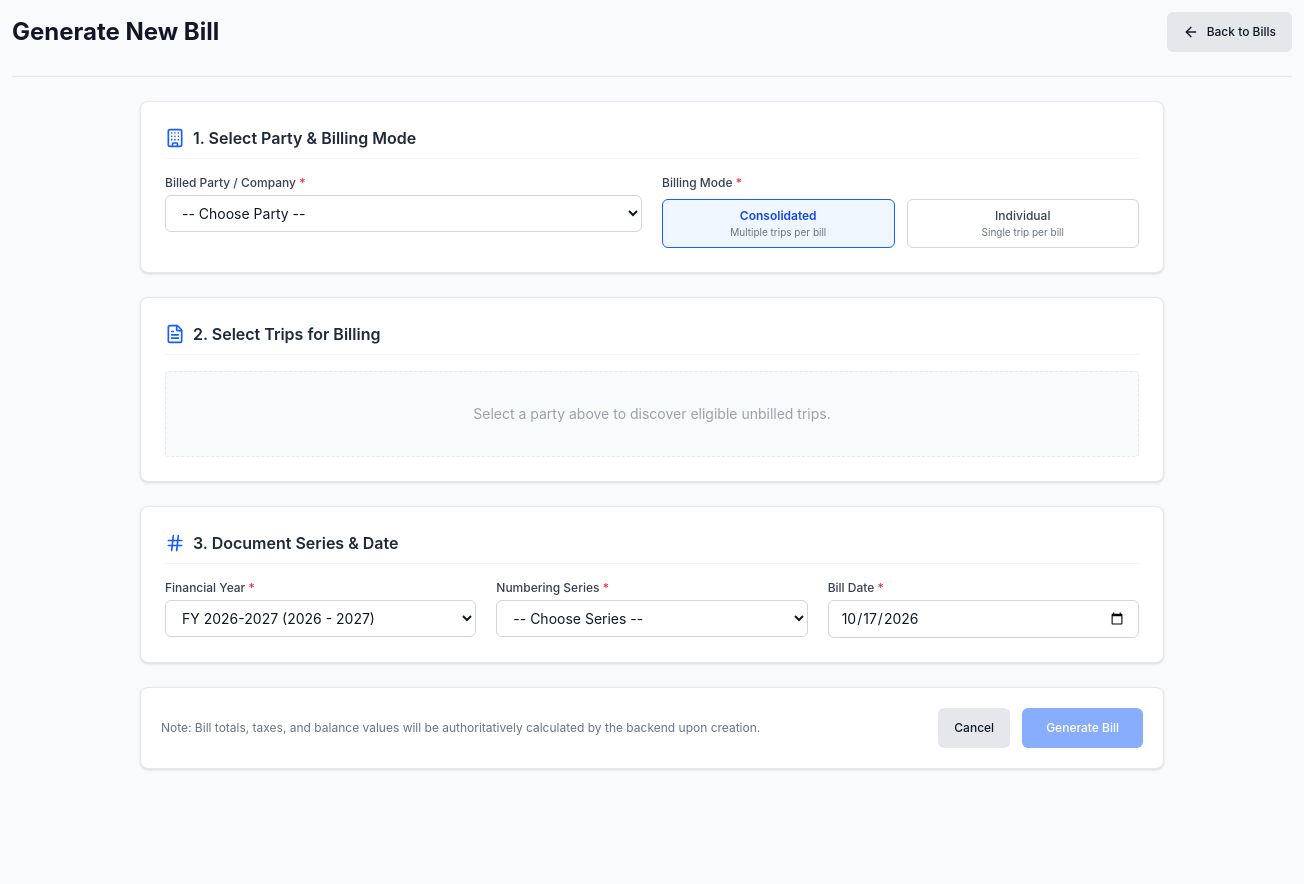
Test: CreateBill Page › displays error when bill generation fails
Select "UltraTech Cement Ltd (COMPANY)" in the dropdown labelled "Billed Party / Company *". click: (404, 214)
box: top-left (165, 195), bottom-right (642, 232)
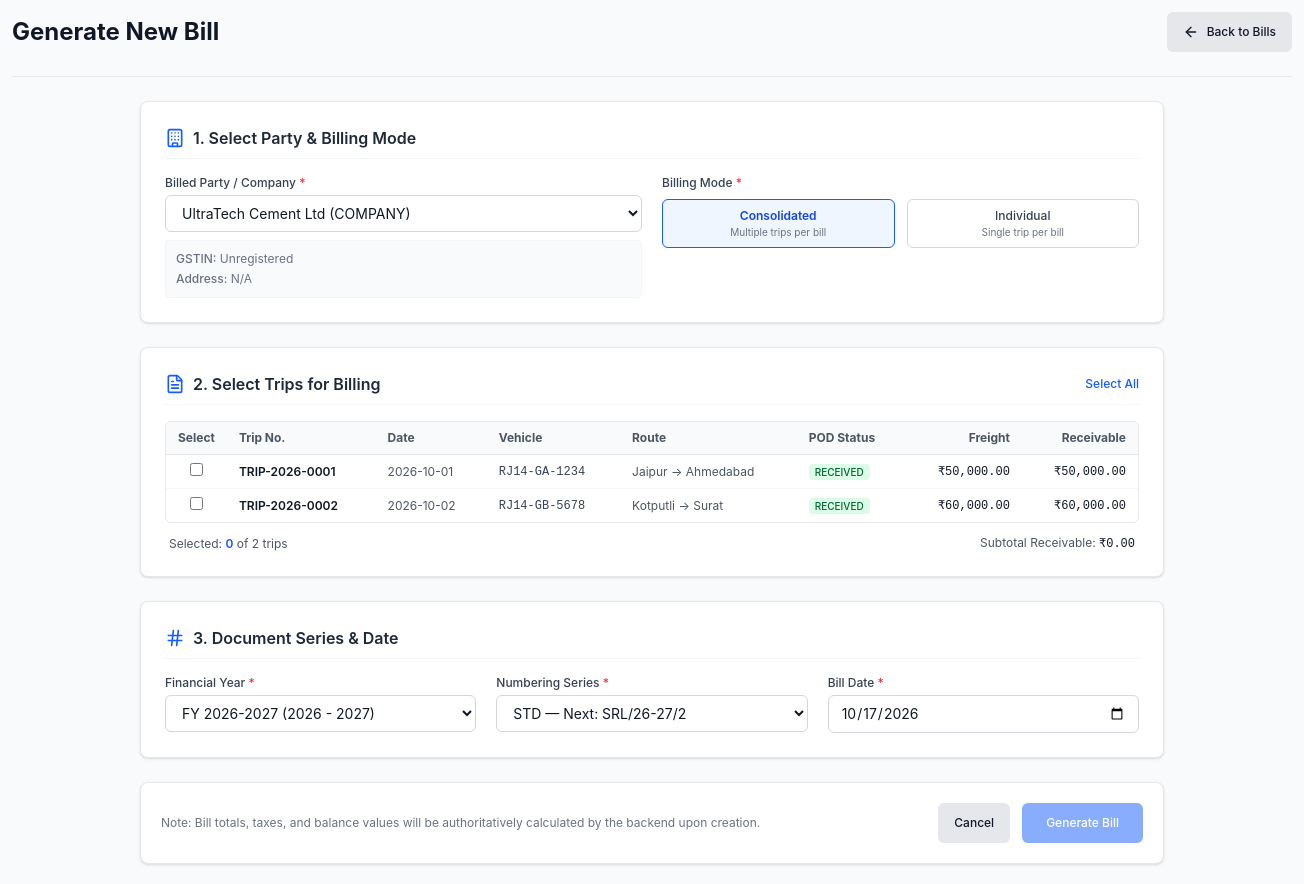
Now the text "TRIP-2026-0001" is shown, box top-left (227, 454), bottom-right (376, 488)
Click the button "Select All". click: click(1112, 384)
box: top-left (1085, 376), bottom-right (1139, 392)
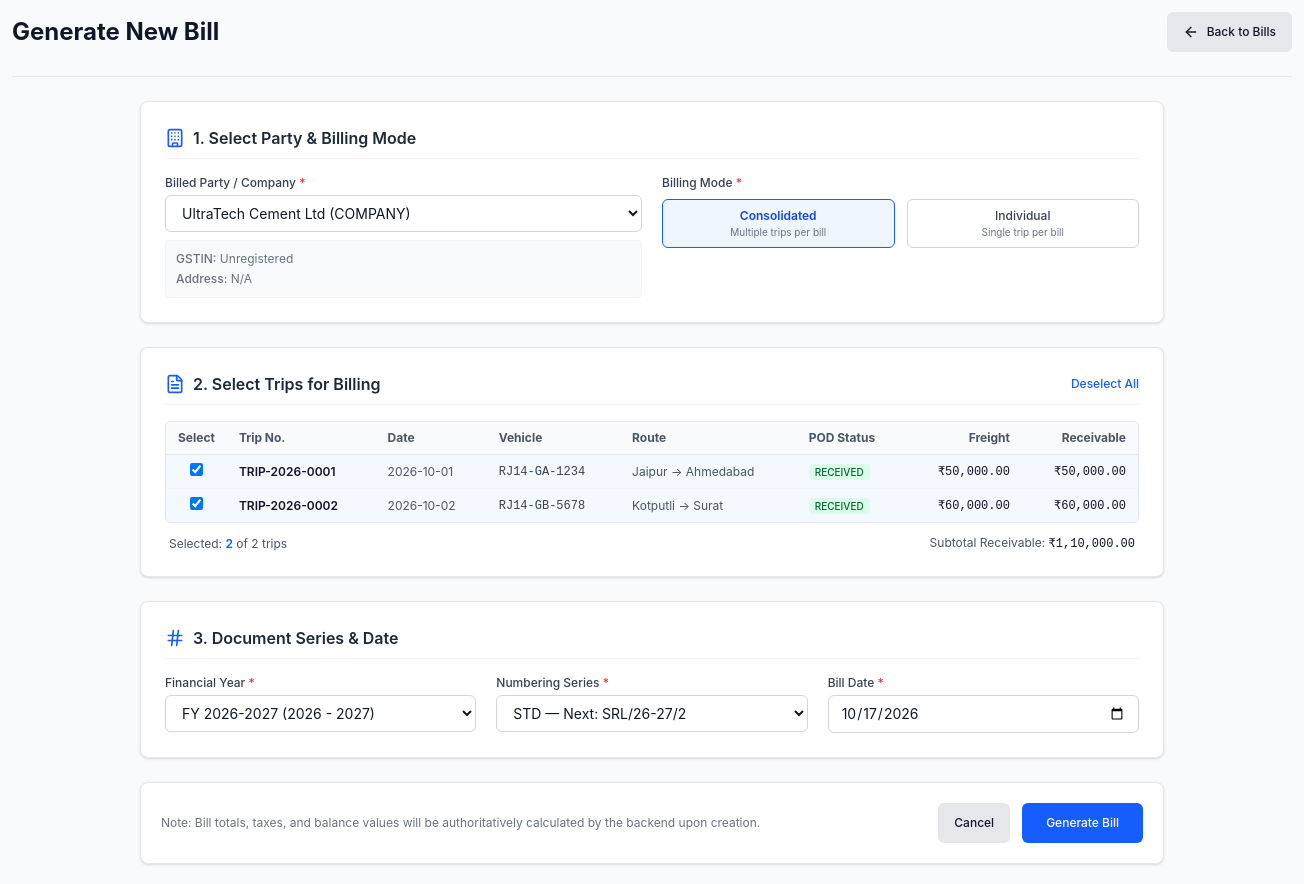
Click the button "Generate Bill". click: click(1083, 823)
box: top-left (1022, 803), bottom-right (1143, 843)
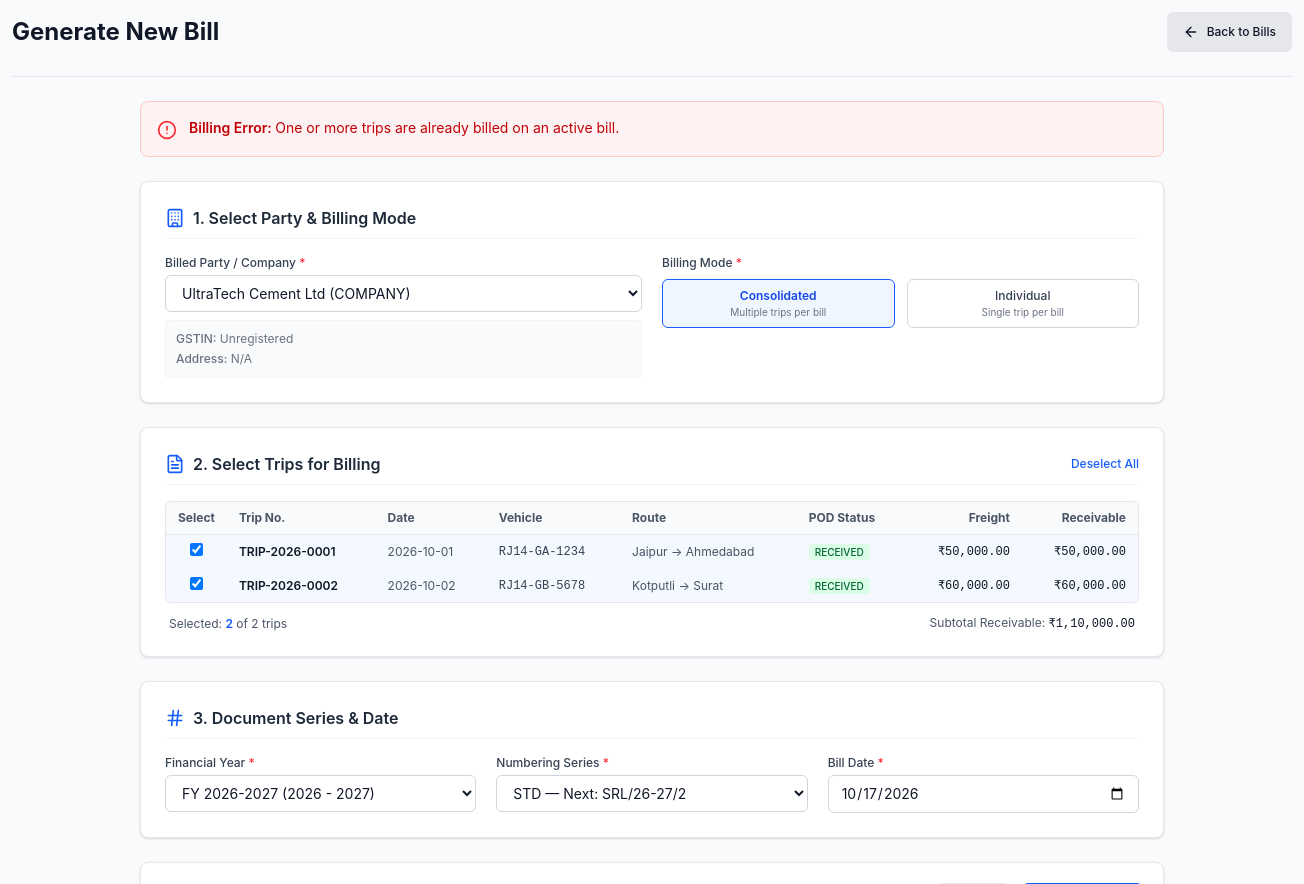
Now the text "One or more trips are already billed on an active bill." is shown, box top-left (275, 119), bottom-right (619, 136)
